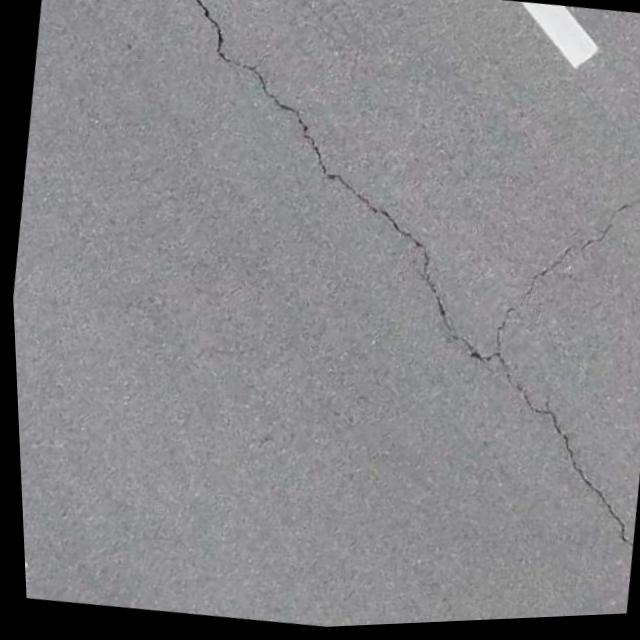Crack: (400, 125, 640, 429), (124, 0, 392, 201), (299, 149, 451, 284), (526, 423, 640, 586)
